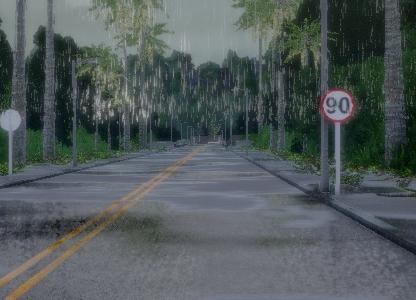Speed_90: (319, 86, 355, 124)
